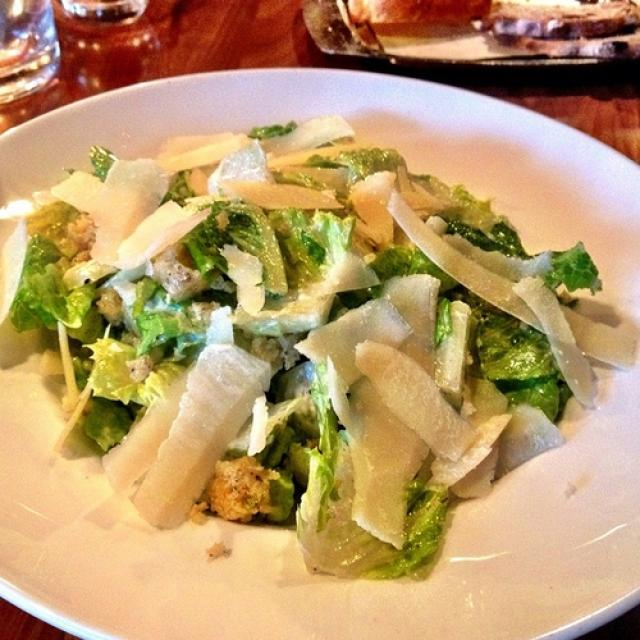蔬菜料理: (9, 80, 589, 610)
